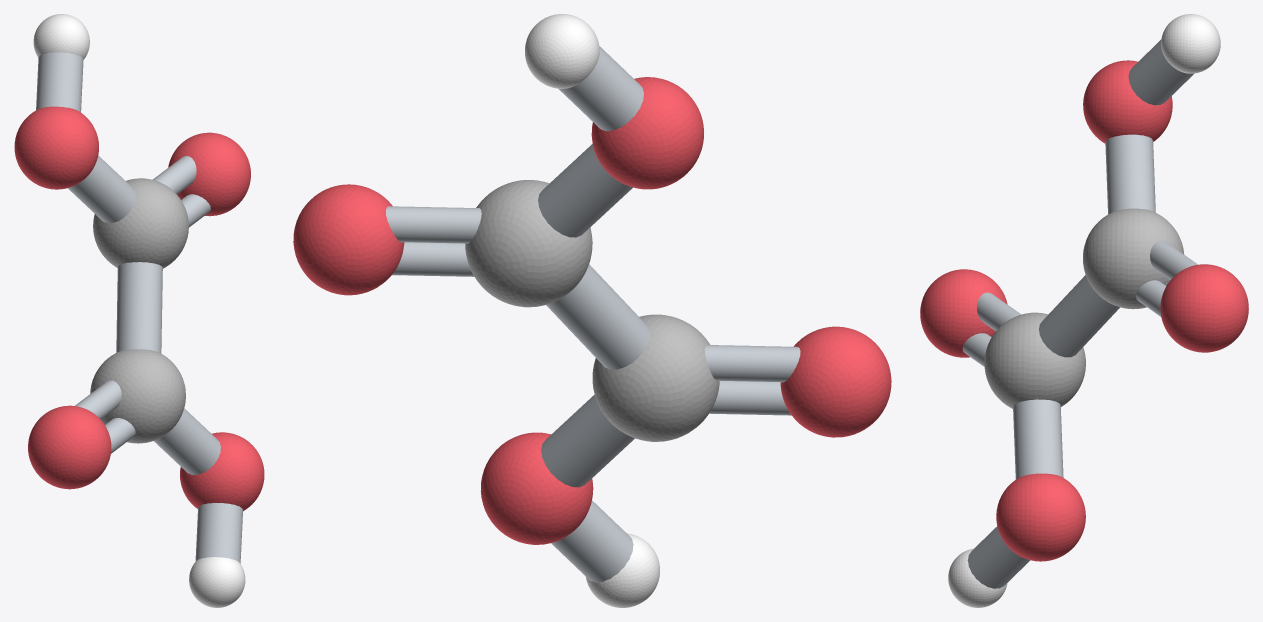
File: Oxalico.glb
The picture shows the model from 3 angles, left to right: view 1: azimuth 30°, elevation 25°; view 2: azimuth 150°, elevation 25°; view 3: azimuth 270°, elevation 25°; orthographic projection. The views are drawn at different scales.
Bounding box in the file's own units: 3.33 × 5.17 × 2.75.
